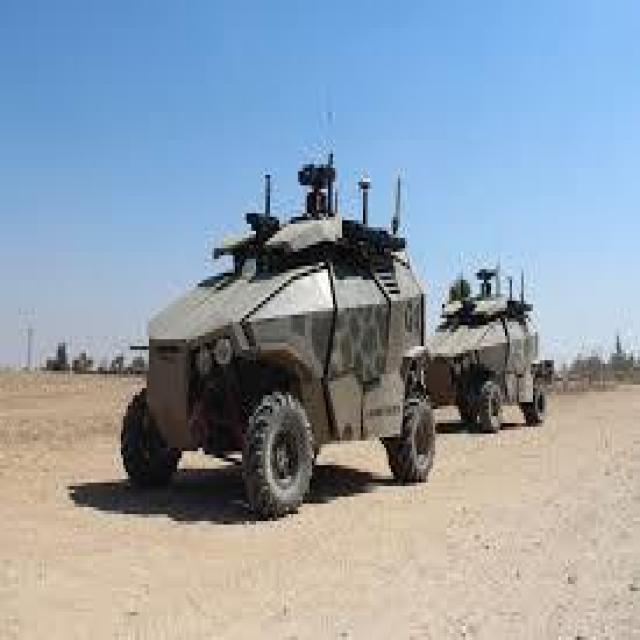MIL_MBT: (123, 166, 421, 505), (424, 241, 559, 434)
